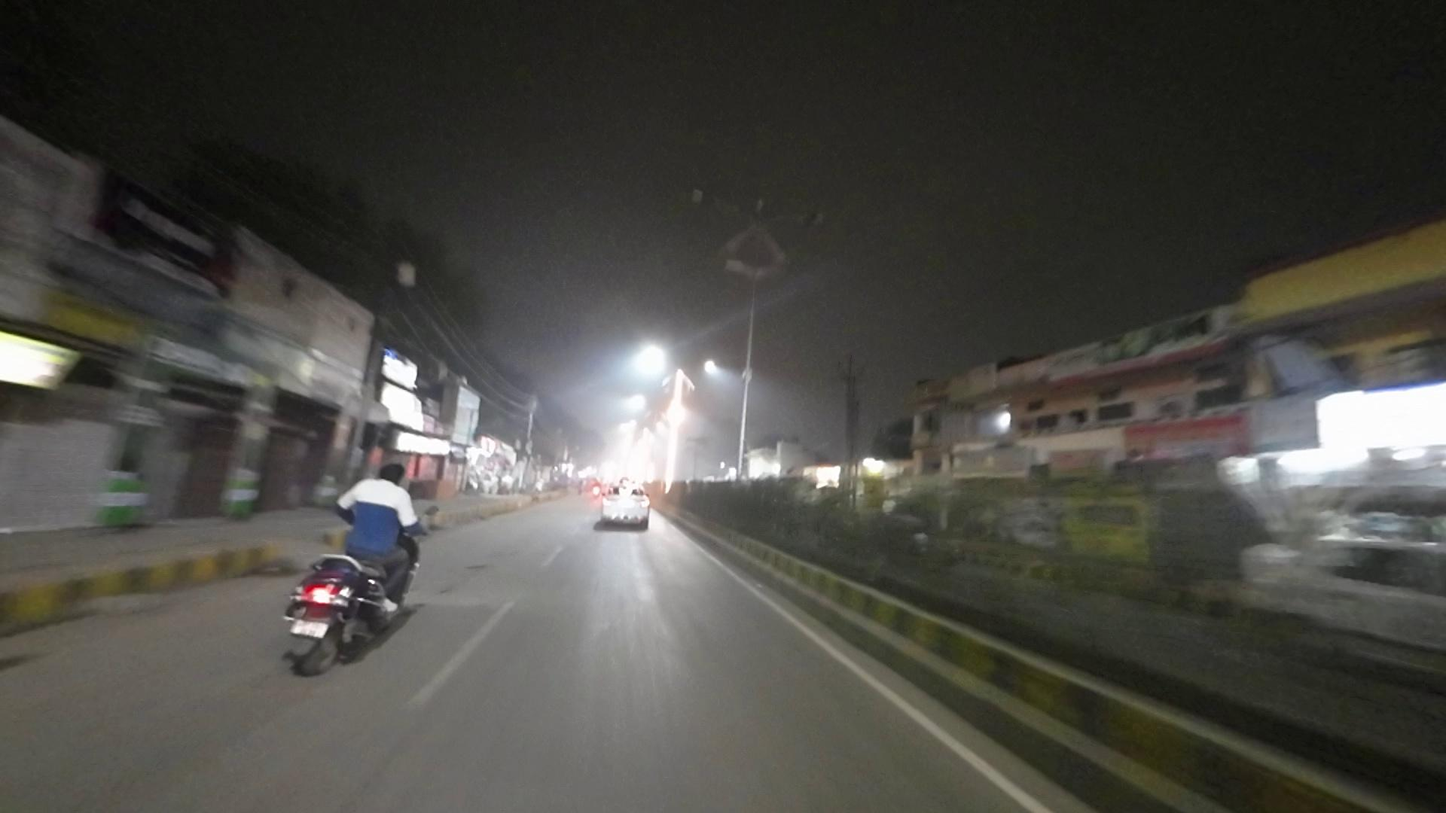streetlight: (692, 183, 753, 219), (773, 208, 826, 233)
